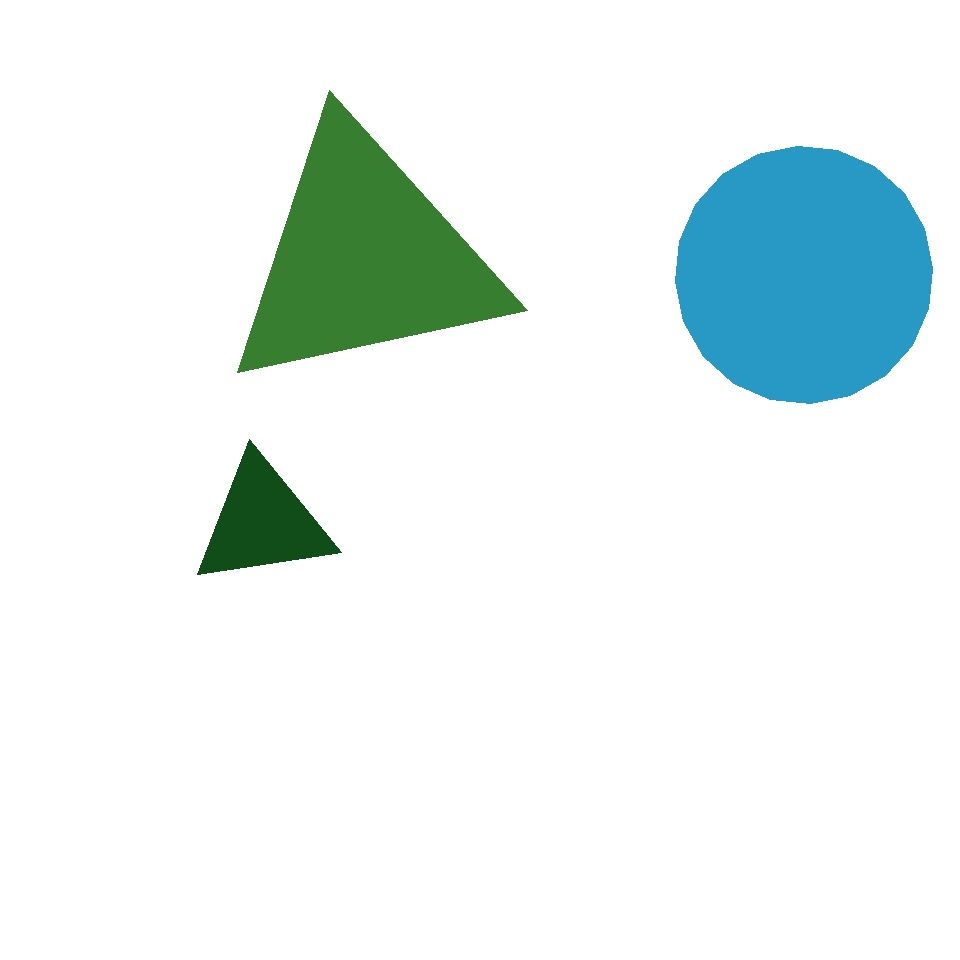circle: (220, 117, 510, 399), (556, 168, 790, 438), (505, 76, 732, 316), (512, 556, 691, 738), (191, 454, 335, 590)
square: (154, 632, 420, 898)
triangle: (176, 2, 520, 346), (625, 494, 946, 814), (676, 146, 933, 404)
